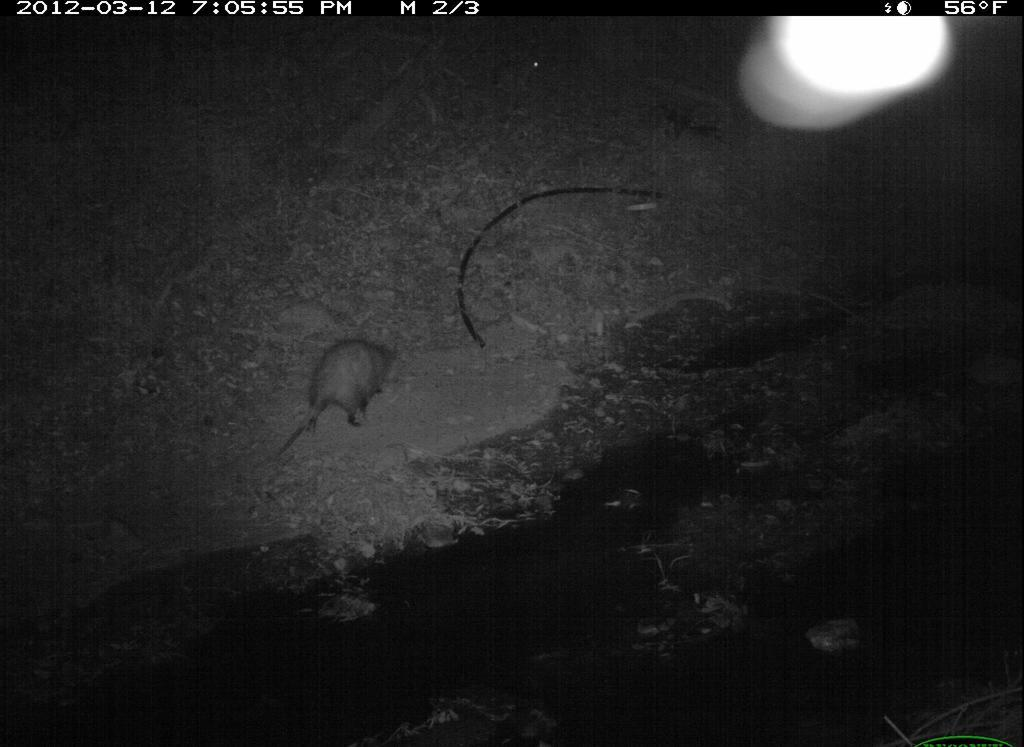opossum: (268, 331, 408, 464)
